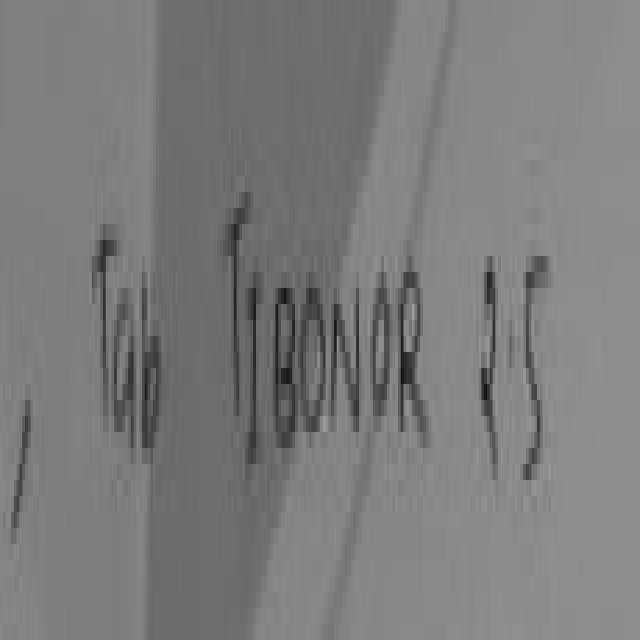2: (484, 256, 501, 480)
5: (526, 256, 551, 472)
B: (275, 288, 297, 460)
I: (244, 263, 263, 460)
N: (334, 288, 362, 432)
O: (303, 288, 326, 432), (373, 272, 392, 416)
R: (401, 272, 429, 432)
T: (217, 182, 254, 424), (91, 224, 118, 418)
a: (111, 293, 140, 450)
b: (141, 243, 162, 463)
